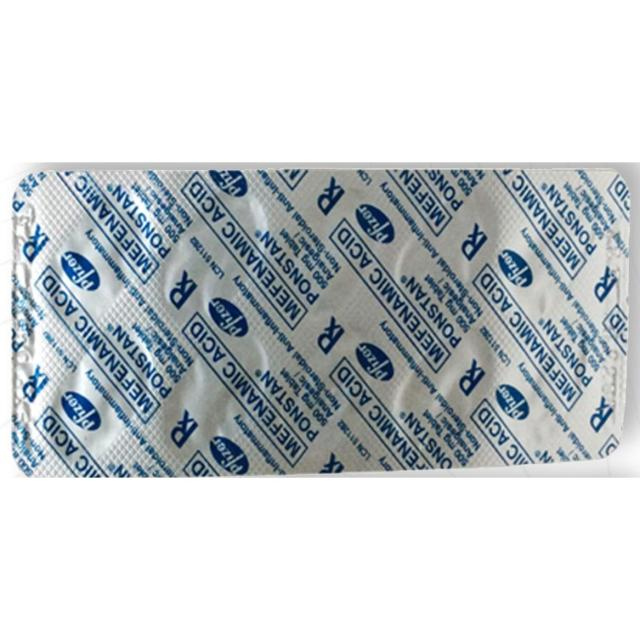blister: (8, 161, 632, 479)
